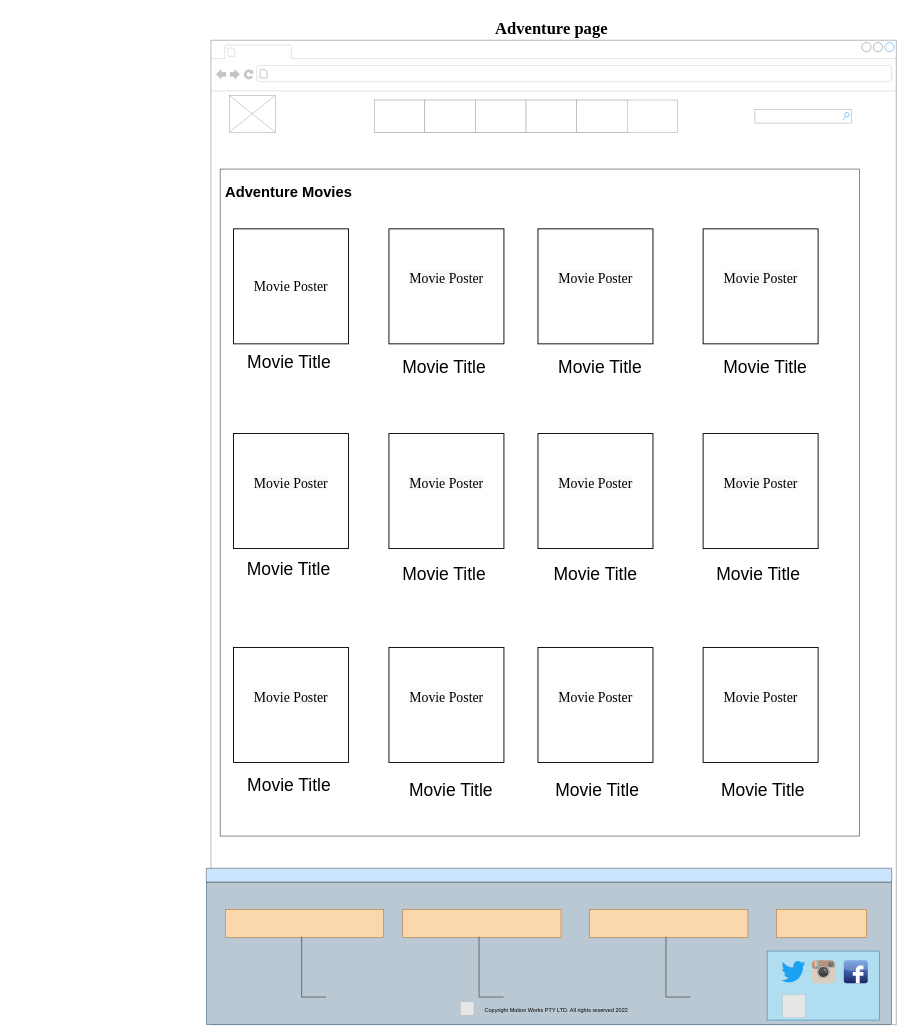
Some shapes in this 904 by 1033 pixel diagram are drawn without their labels. Grey dashed boxes stand in for pictures. The centre of each missing label's shape, as x and y in pixels:
Cinema |Movi: the point at 286,52
https://wwwmovieworks.com: the point at 328,73
Search: the point at 802,116
